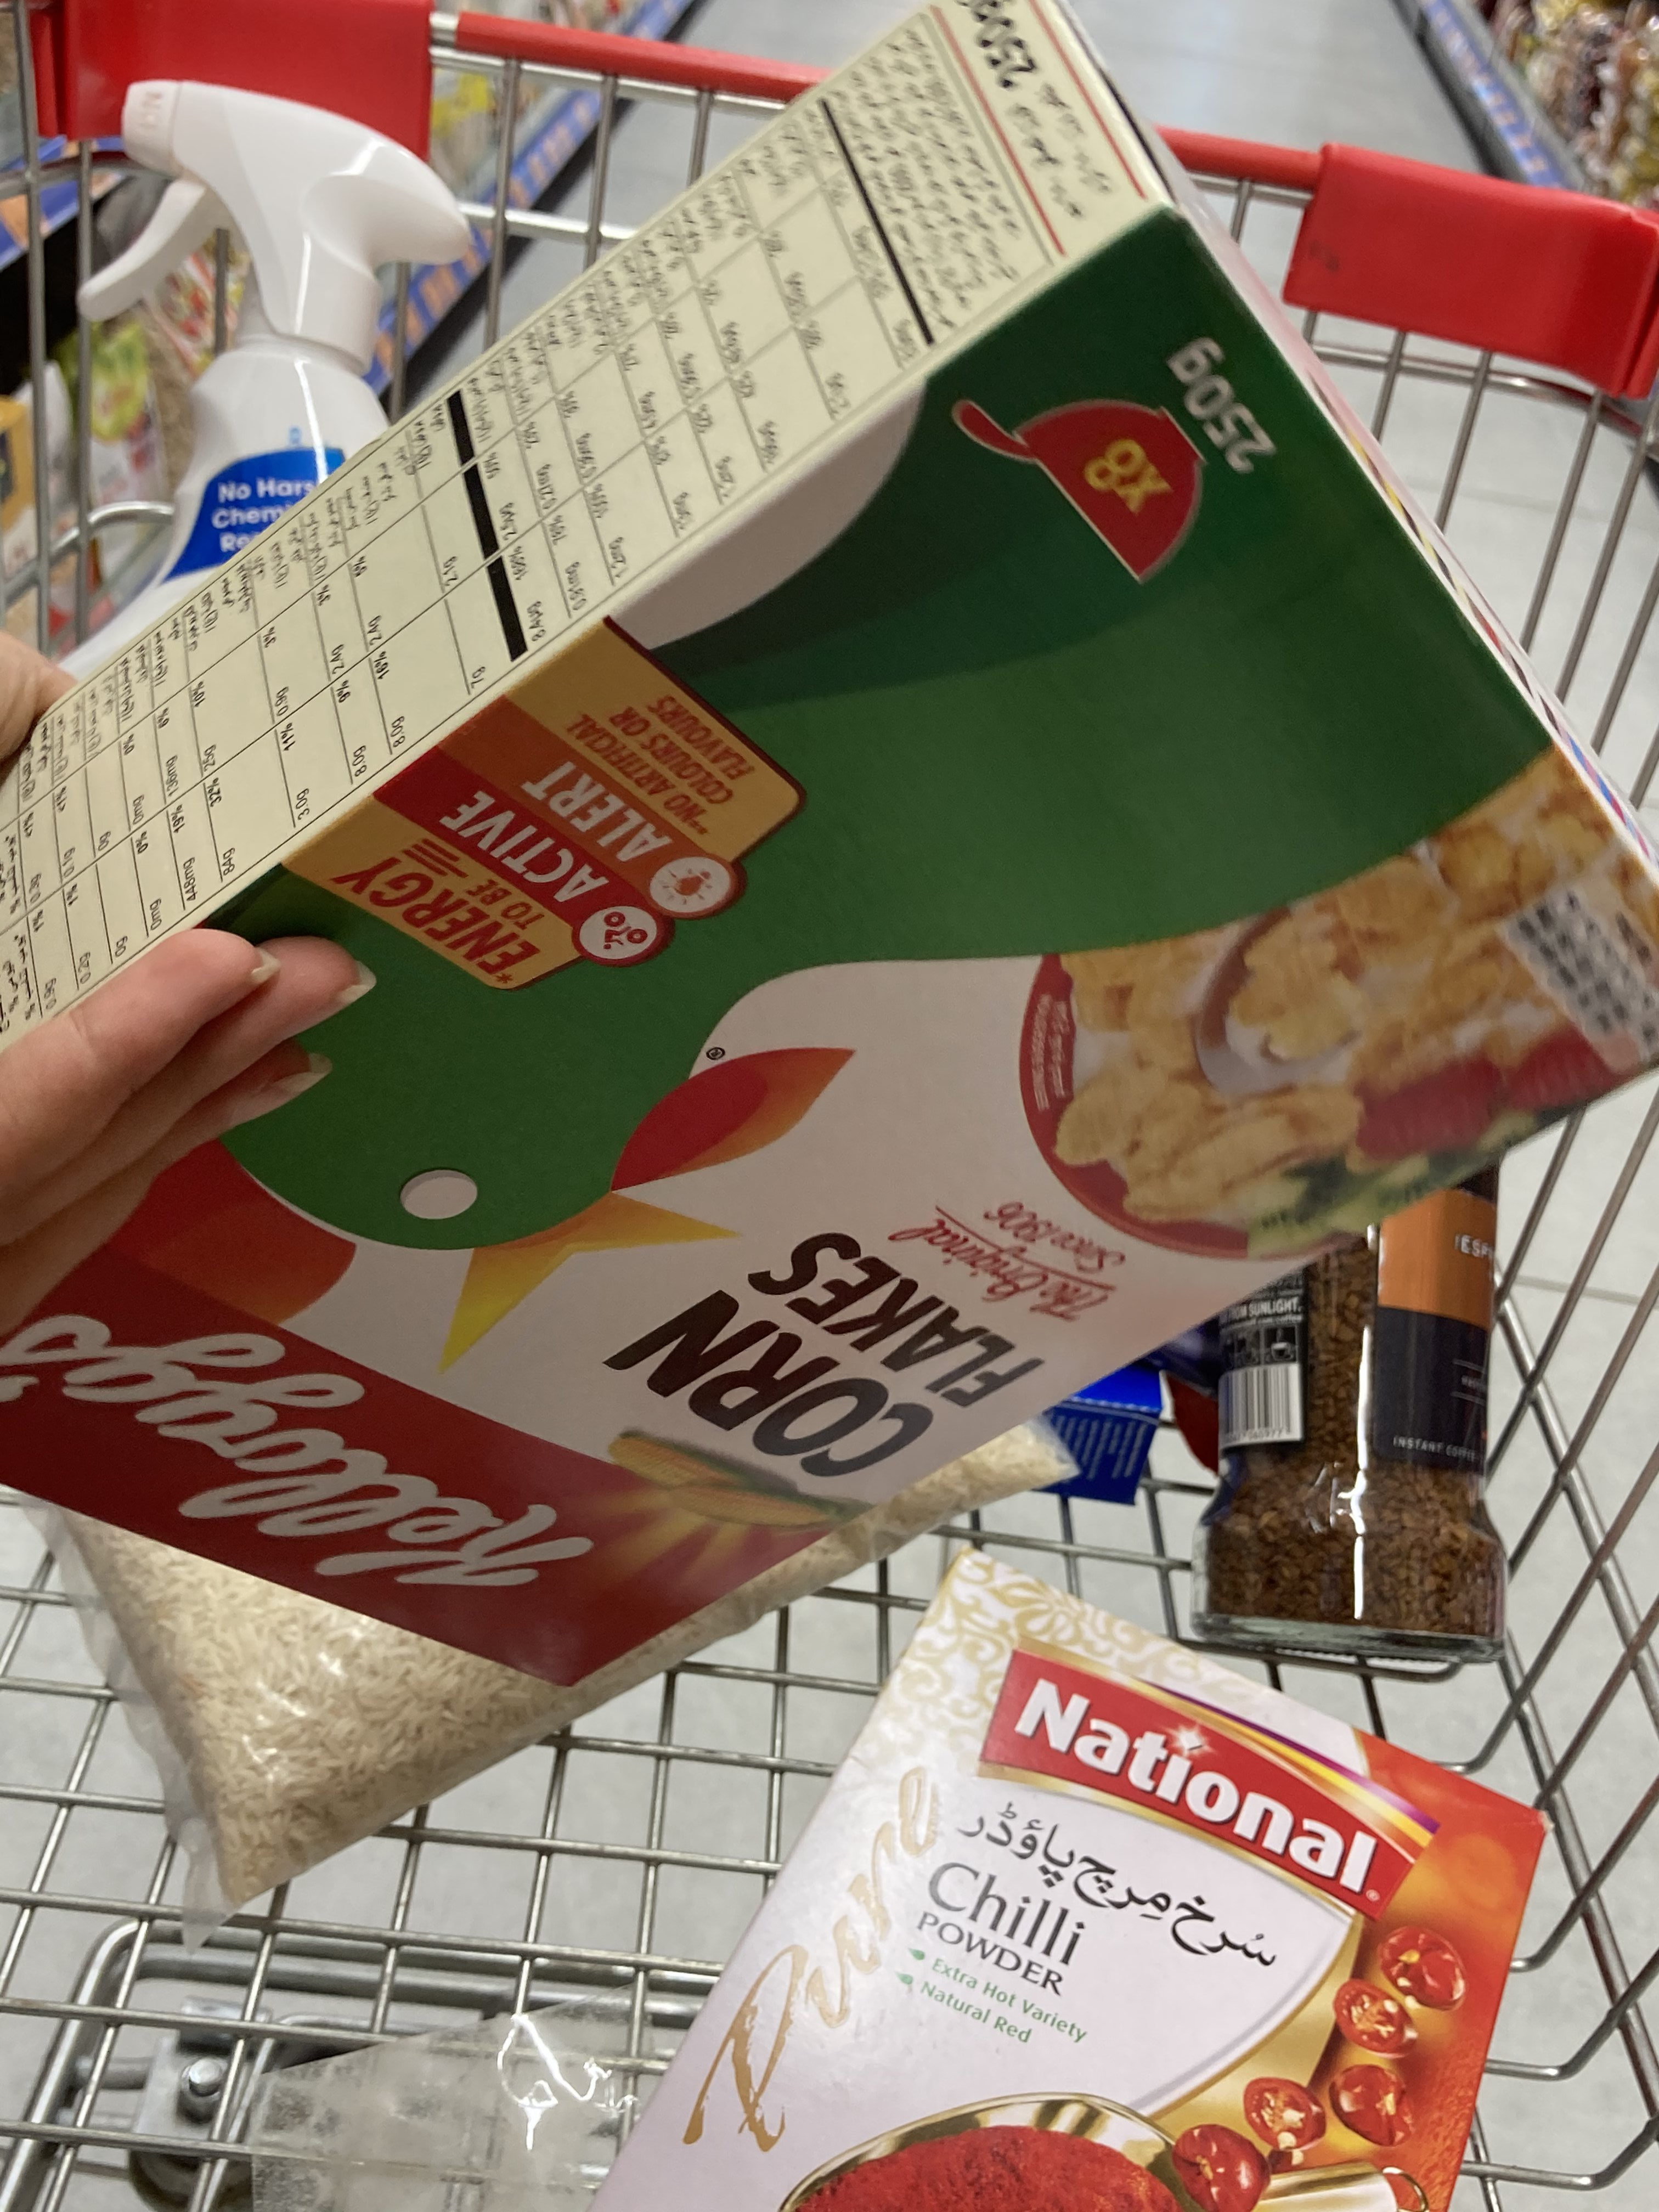Kellogg's Corn Flakes: (2, 9, 1659, 1689)
